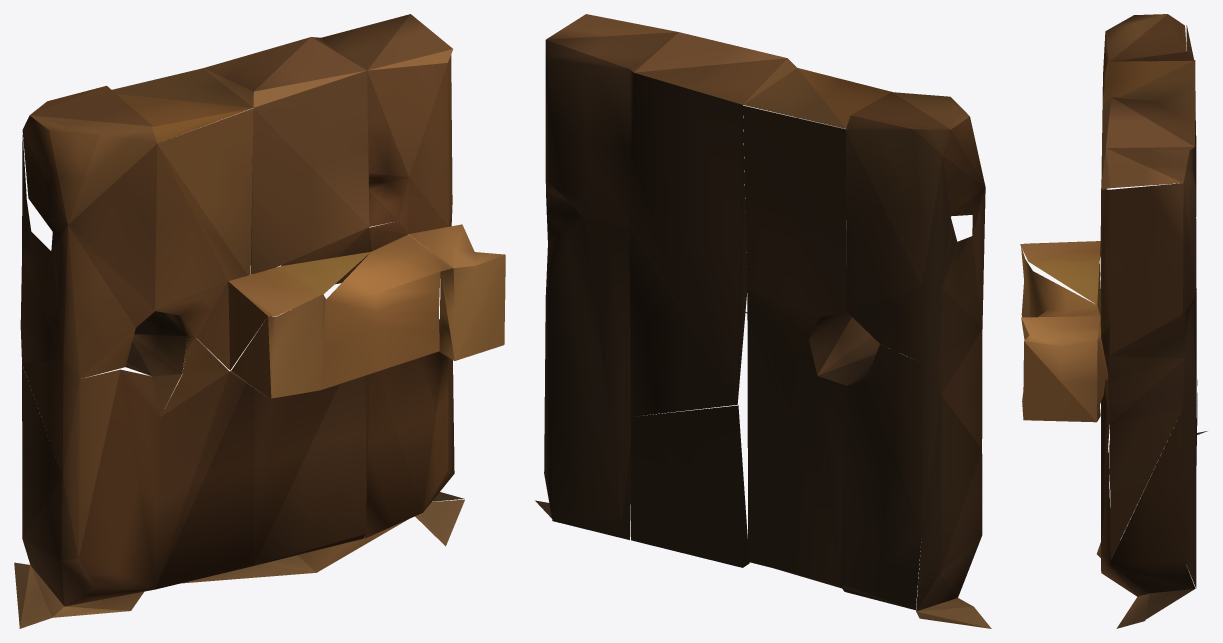
File: building-betterStove-door.glb
3 views of the same model, side by side, from view 1: azimuth 30°, elevation 25°; view 2: azimuth 150°, elevation 25°; view 3: azimuth 270°, elevation 25° (orthographic). The views are drawn at different scales.
Parts seen in each view (by area): view 1: 0_door; view 2: 0_door; view 3: 0_door.
Boxes of the visible parts, left/top/right/bottom form: 0_door: left=14, top=14, right=505, bottom=628; 0_door: left=535, top=14, right=991, bottom=628; 0_door: left=1020, top=14, right=1207, bottom=628.
Bounding box in the file's own units: 0.5126 × 0.5532 × 0.2111.
